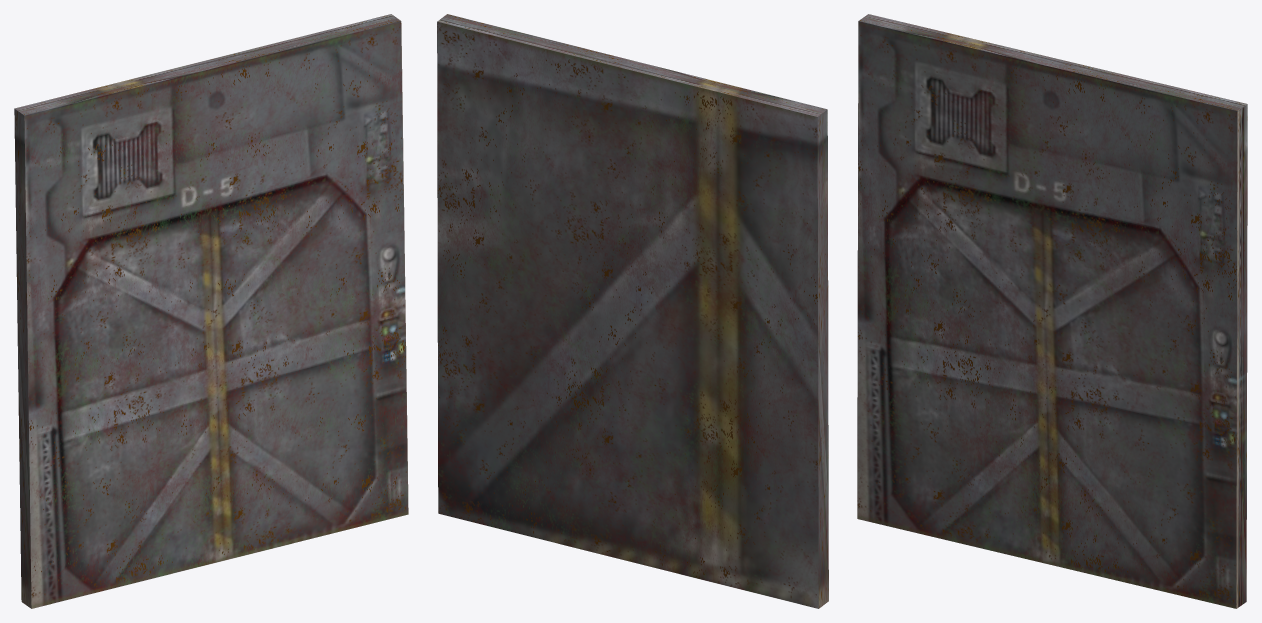
File: door.fbx
3 views of the same model, side by side, from view 1: azimuth 30°, elevation 25°; view 2: azimuth 150°, elevation 25°; view 3: azimuth 330°, elevation 25° (orthographic).
Parts seen in each view (by area): view 1: Door; view 2: Door; view 3: Door.
Part boxes in pixels (x1,y1,x2,y2): Door: (14,14,408,608); Door: (437,14,828,608); Door: (857,14,1247,608).
Bounding box in the file's own units: 0.3684 × 0.4575 × 0.0238.
Materials: 1 (1 with a texture image).
